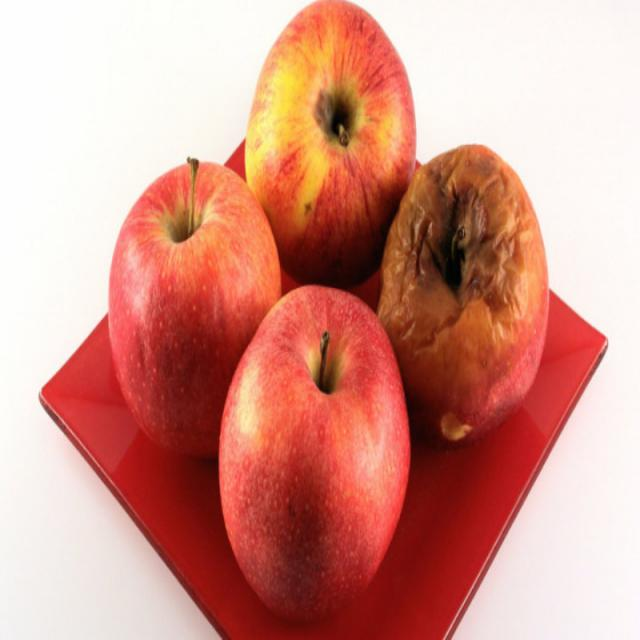Fresh Apple: (220, 277, 406, 623), (108, 162, 278, 462), (249, 1, 412, 271)
Rotten Apple: (376, 144, 545, 443)
